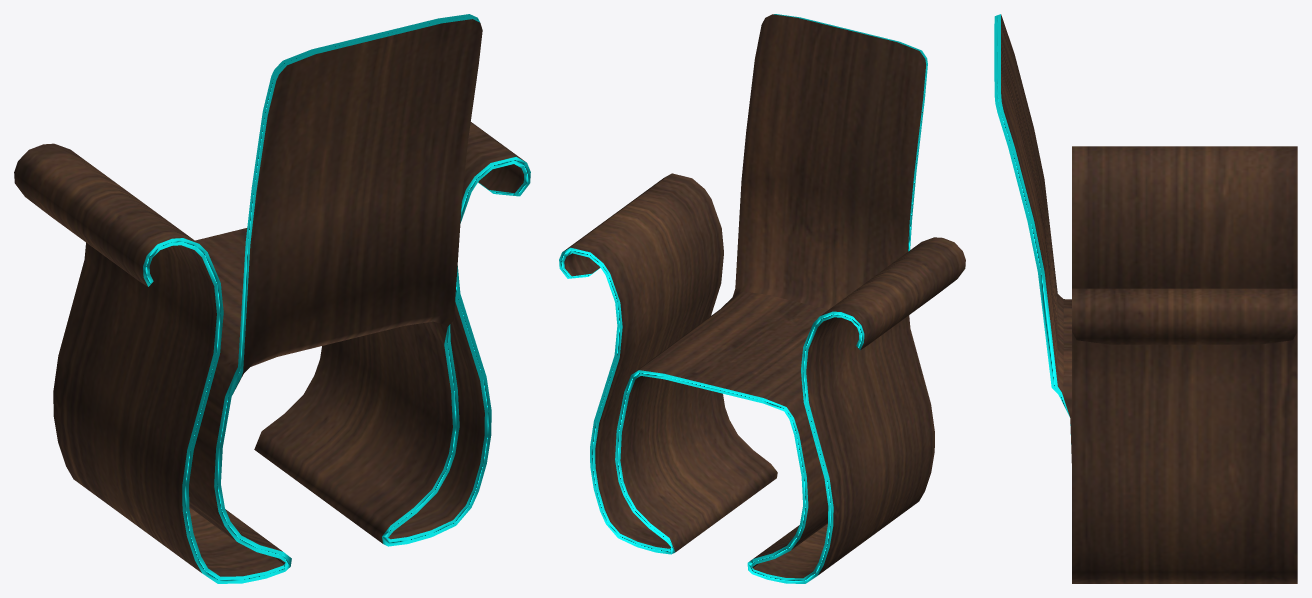
Rendered from FUR0310006.fbx.
The picture shows the model from 3 angles, left to right: view 1: azimuth 30°, elevation 25°; view 2: azimuth 150°, elevation 25°; view 3: azimuth 270°, elevation 25°; orthographic projection. The views are drawn at different scales.
Visible parts, largest first — view 1: smFUR0310006; view 2: smFUR0310006; view 3: smFUR0310006.
Boxes of the visible parts, x1,y1,x2,y2 form: smFUR0310006: (14,14,530,583); smFUR0310006: (559,14,965,583); smFUR0310006: (994,14,1297,583).
Bounding box in the file's own units: 99.53 × 137 × 76.94.
1 material, 1 textured.
